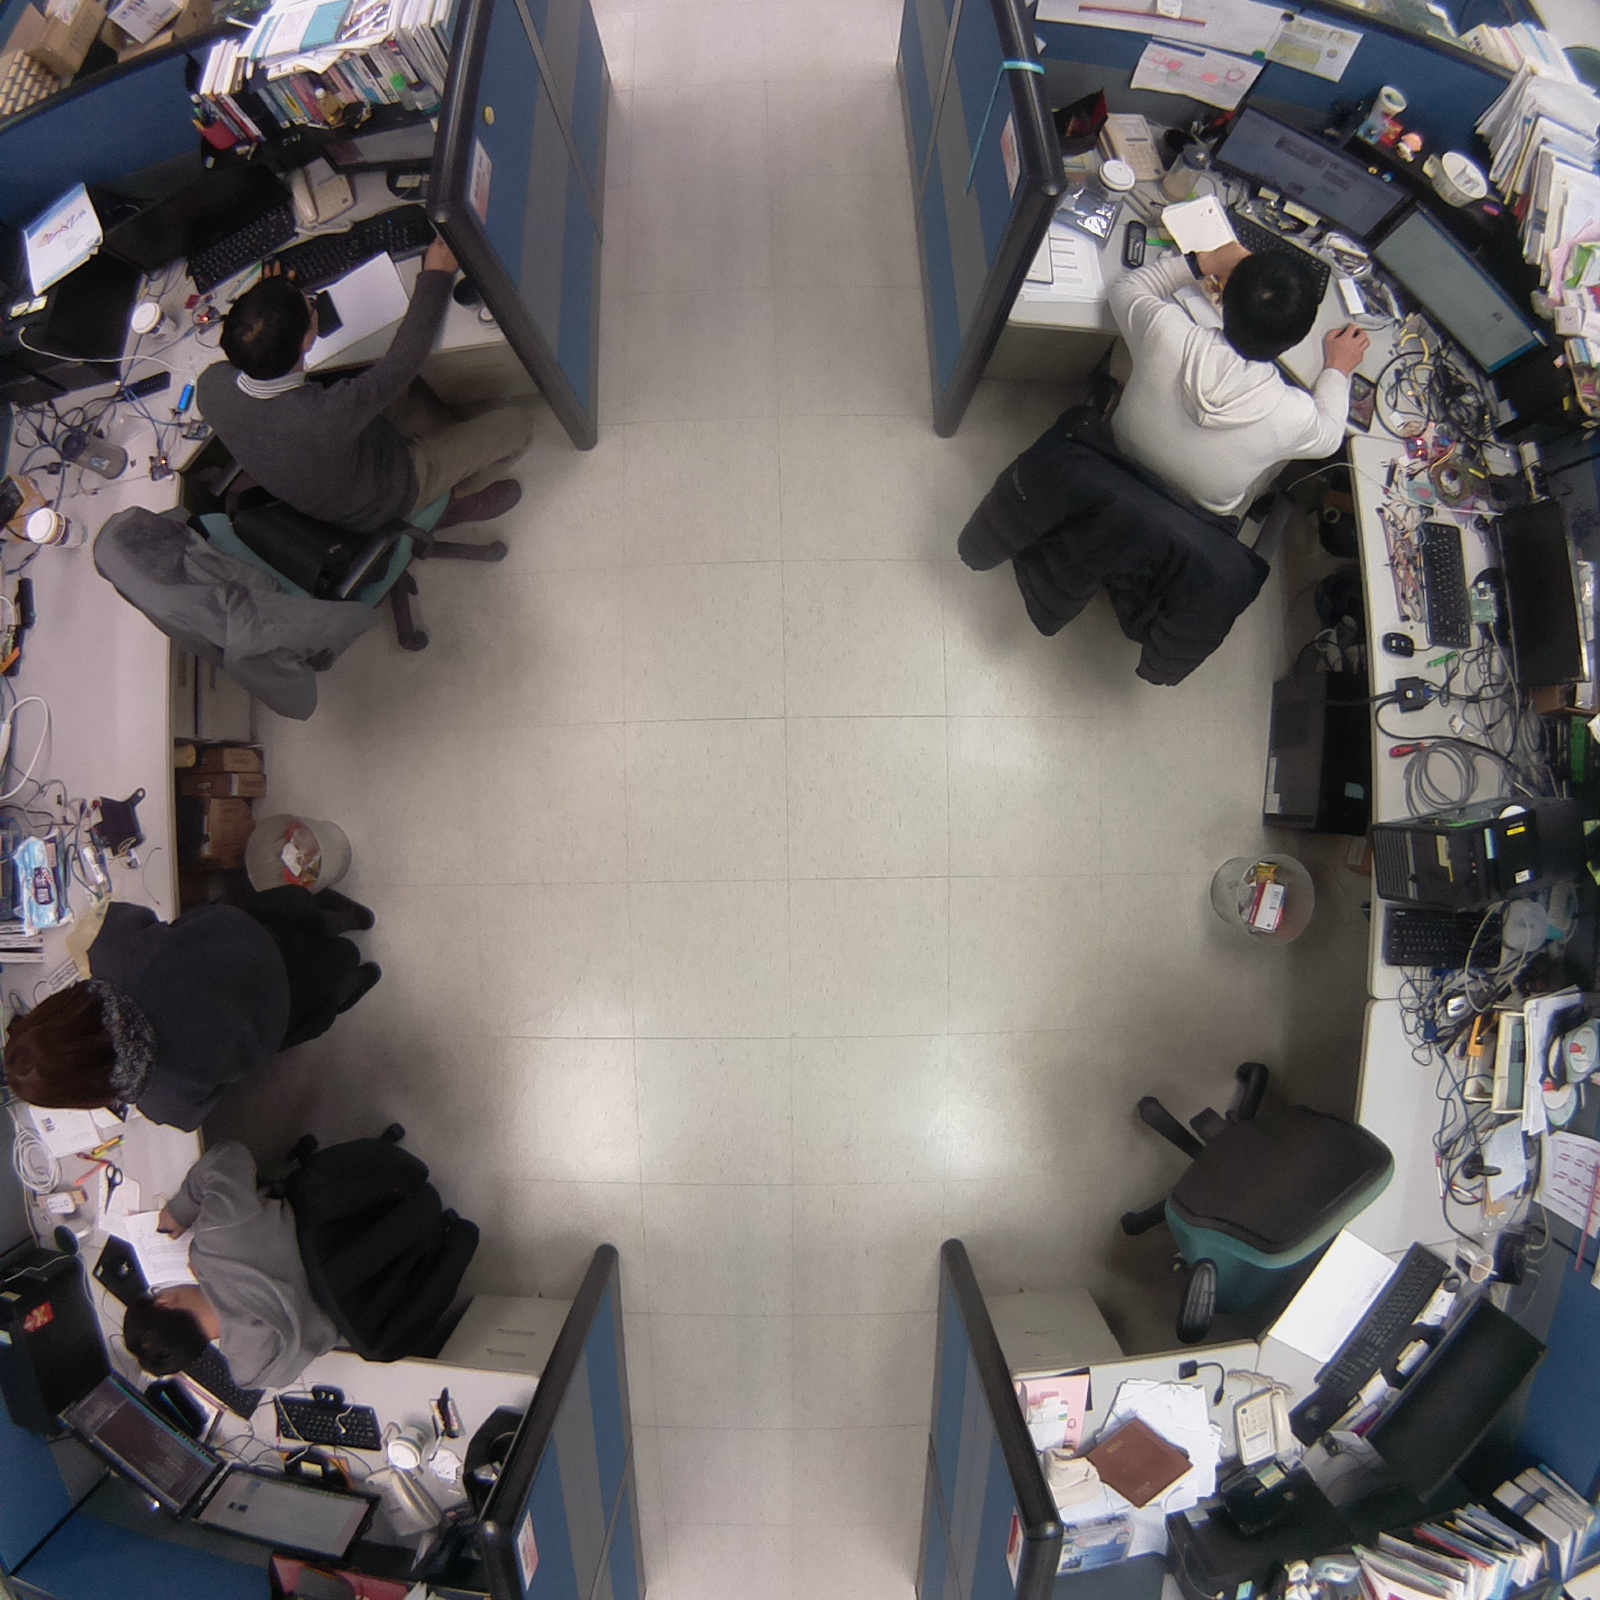chair: (1104, 1034, 1406, 1352)
head: (1, 978, 121, 1122), (1210, 240, 1323, 353), (210, 268, 325, 372), (110, 1285, 219, 1380)
sitting: (91, 261, 563, 727), (942, 231, 1367, 701), (116, 1111, 483, 1422)
standing: (1, 864, 387, 1144)
